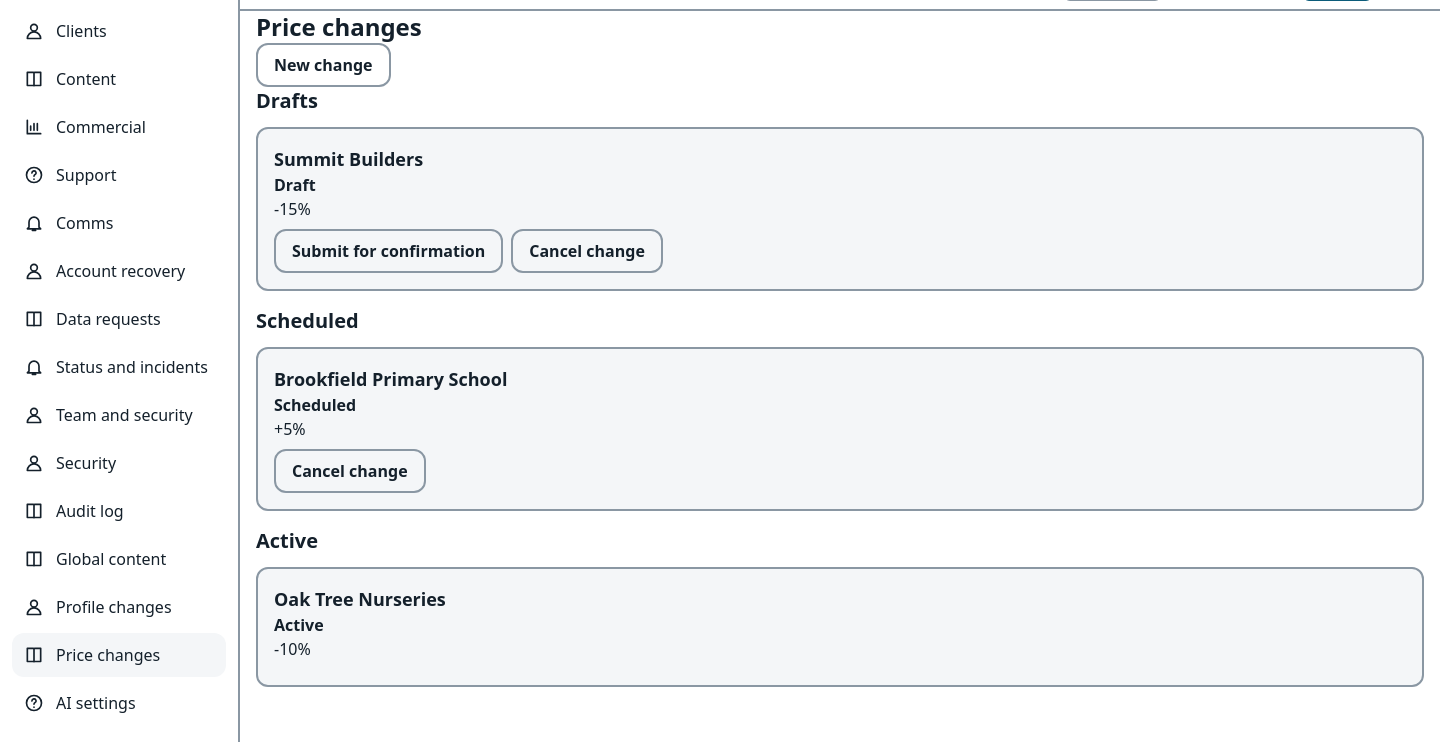
it: P25 Price changes: new change and preview › defaults notice days to 30 and offers the three types, three scopes and one, several or all clients
This screenshot has width=1440, height=742.
Expected: the heading "Price changes" is shown, [256,11,422,43]
Click the button "New change" at {"x": 323, "y": 65}, box [256,43,390,87]
(page scrolled)
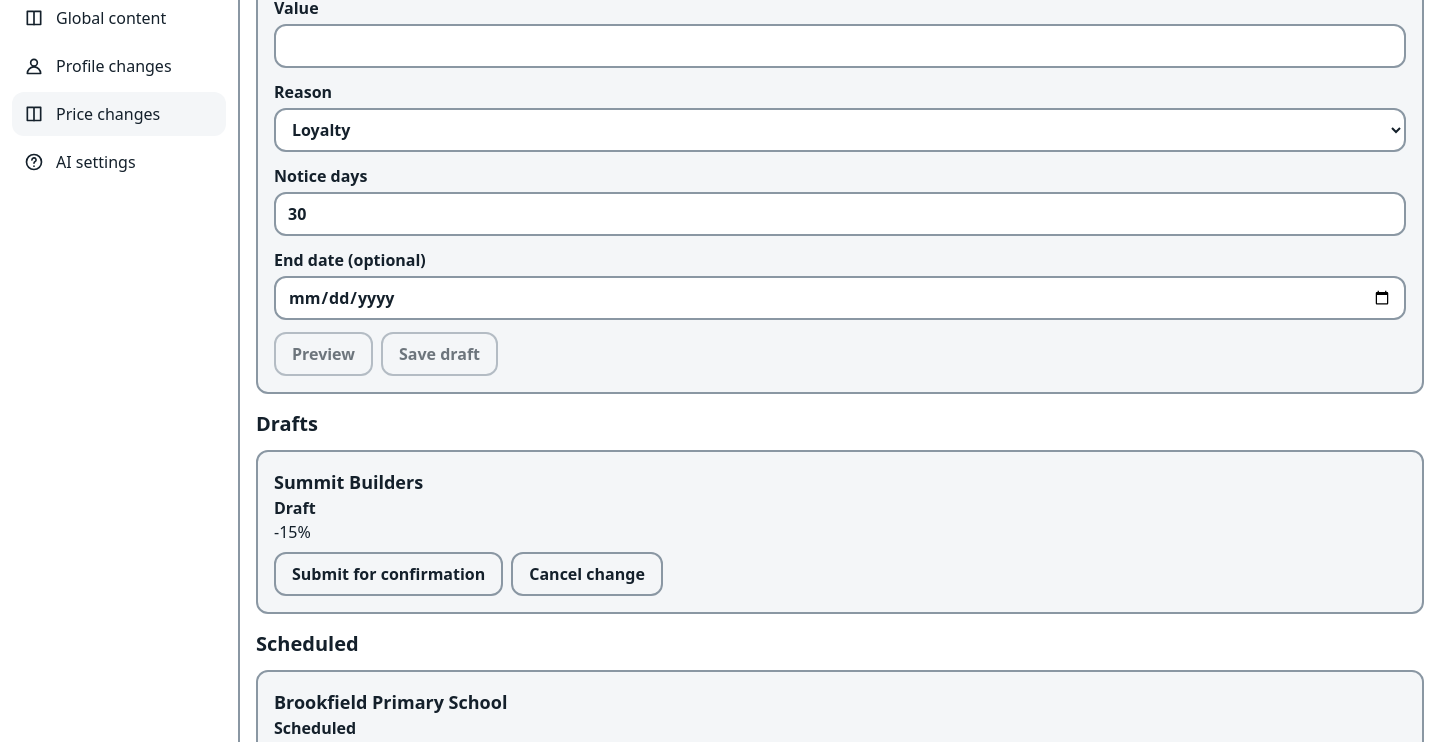
Result: the number field labelled "Notice days" holds "30" at [274,192,1406,236]
Result: the date field labelled "End date (optional)" is shown at [274,276,1406,320]
